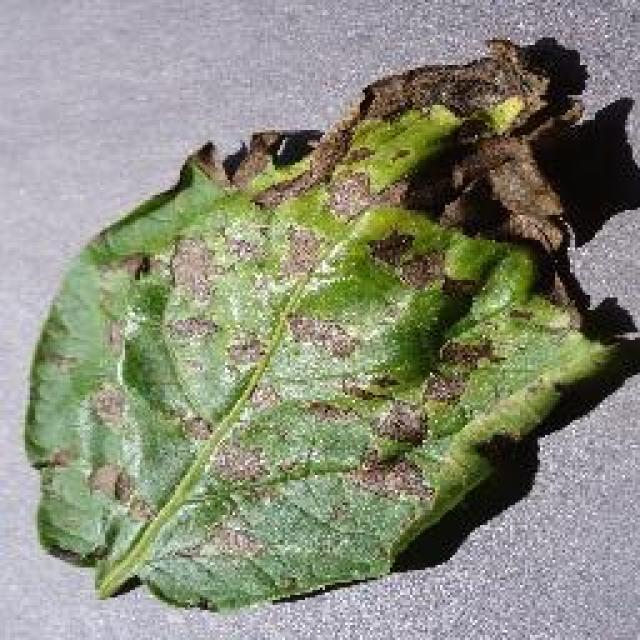Potato: (20, 35, 632, 613)
